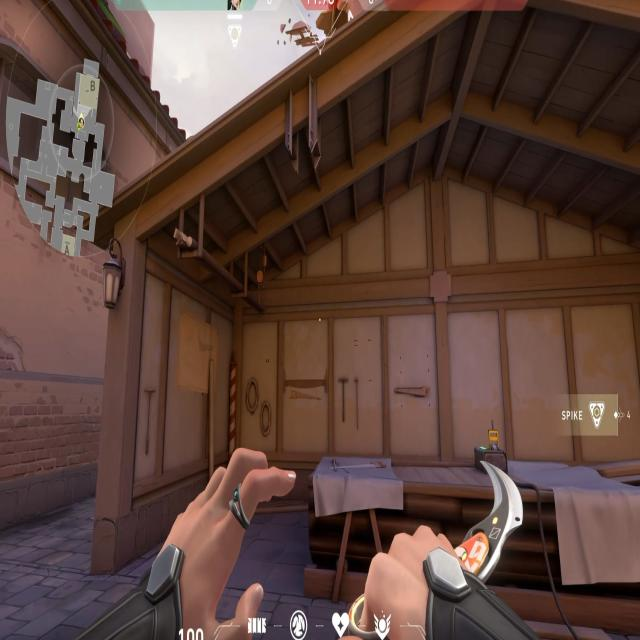B_Garage_Left: (100, 211, 337, 557)
